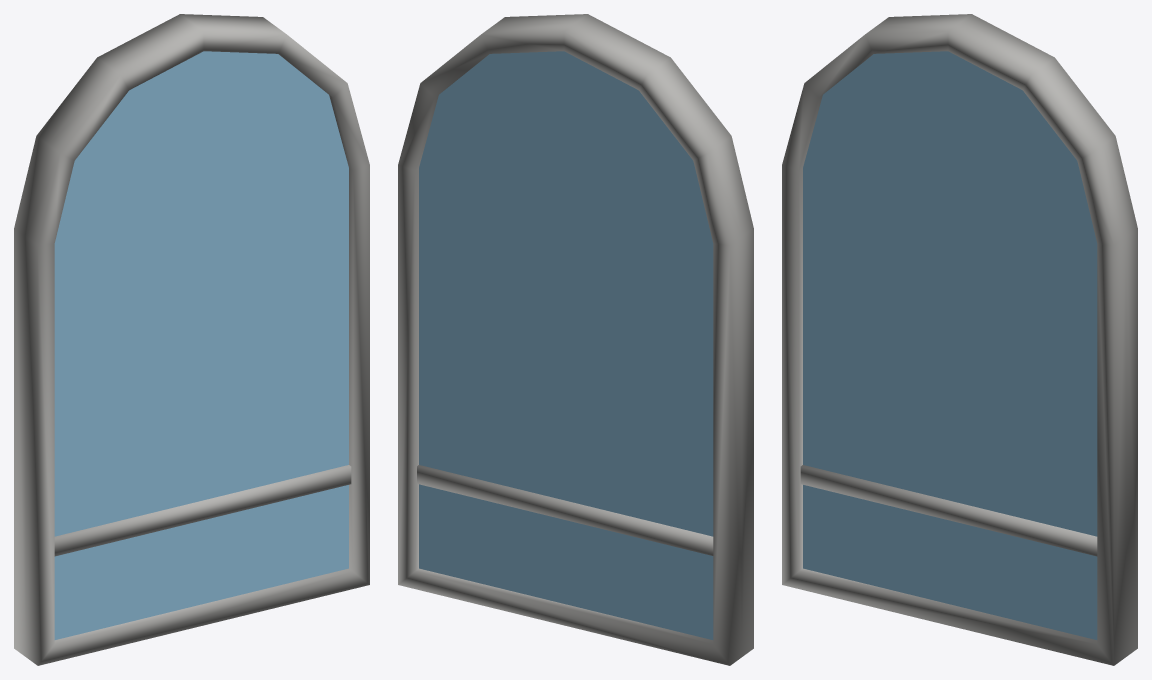
Rendered from Window_Round2.glb.
The picture shows the model from 3 angles, left to right: view 1: azimuth 30°, elevation 25°; view 2: azimuth 150°, elevation 25°; view 3: azimuth 330°, elevation 25°; orthographic projection.
Visible parts, largest first — view 1: Window_Round2; view 2: Window_Round2; view 3: Window_Round2.
Part boxes in pixels (x1,y1,x2,y2): Window_Round2: (14, 14, 369, 665); Window_Round2: (398, 14, 753, 665); Window_Round2: (782, 14, 1137, 665).
Bounding box in the file's own units: 0.9064 × 1.55 × 0.1126.
